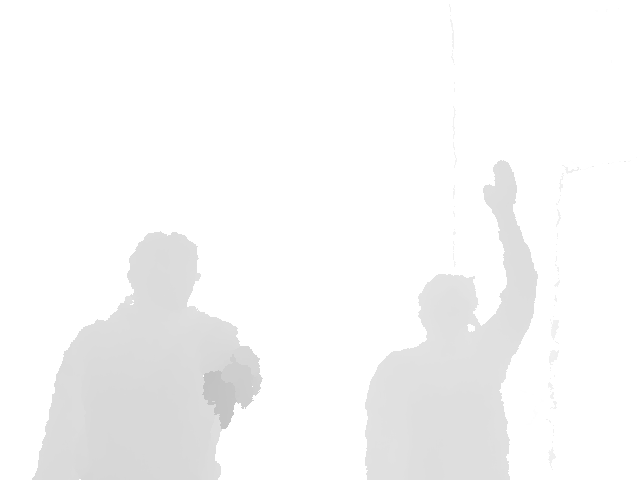hand: (483, 159, 518, 216)
head: (126, 230, 200, 319), (417, 273, 479, 351)
person: (28, 232, 263, 480), (363, 159, 539, 480)
